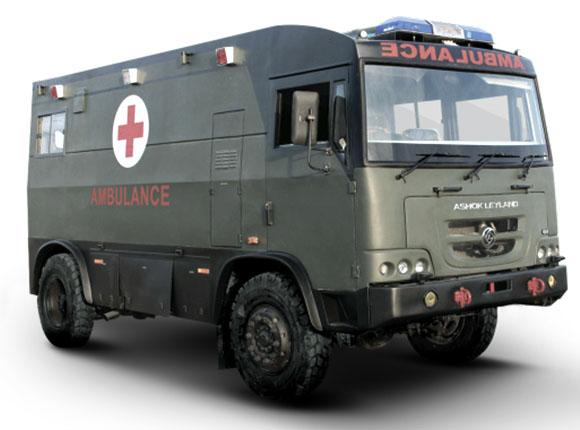ambulance: (25, 9, 579, 406)
